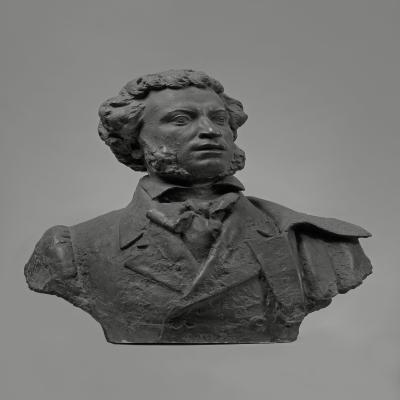sculpture: (23, 69, 373, 347)
